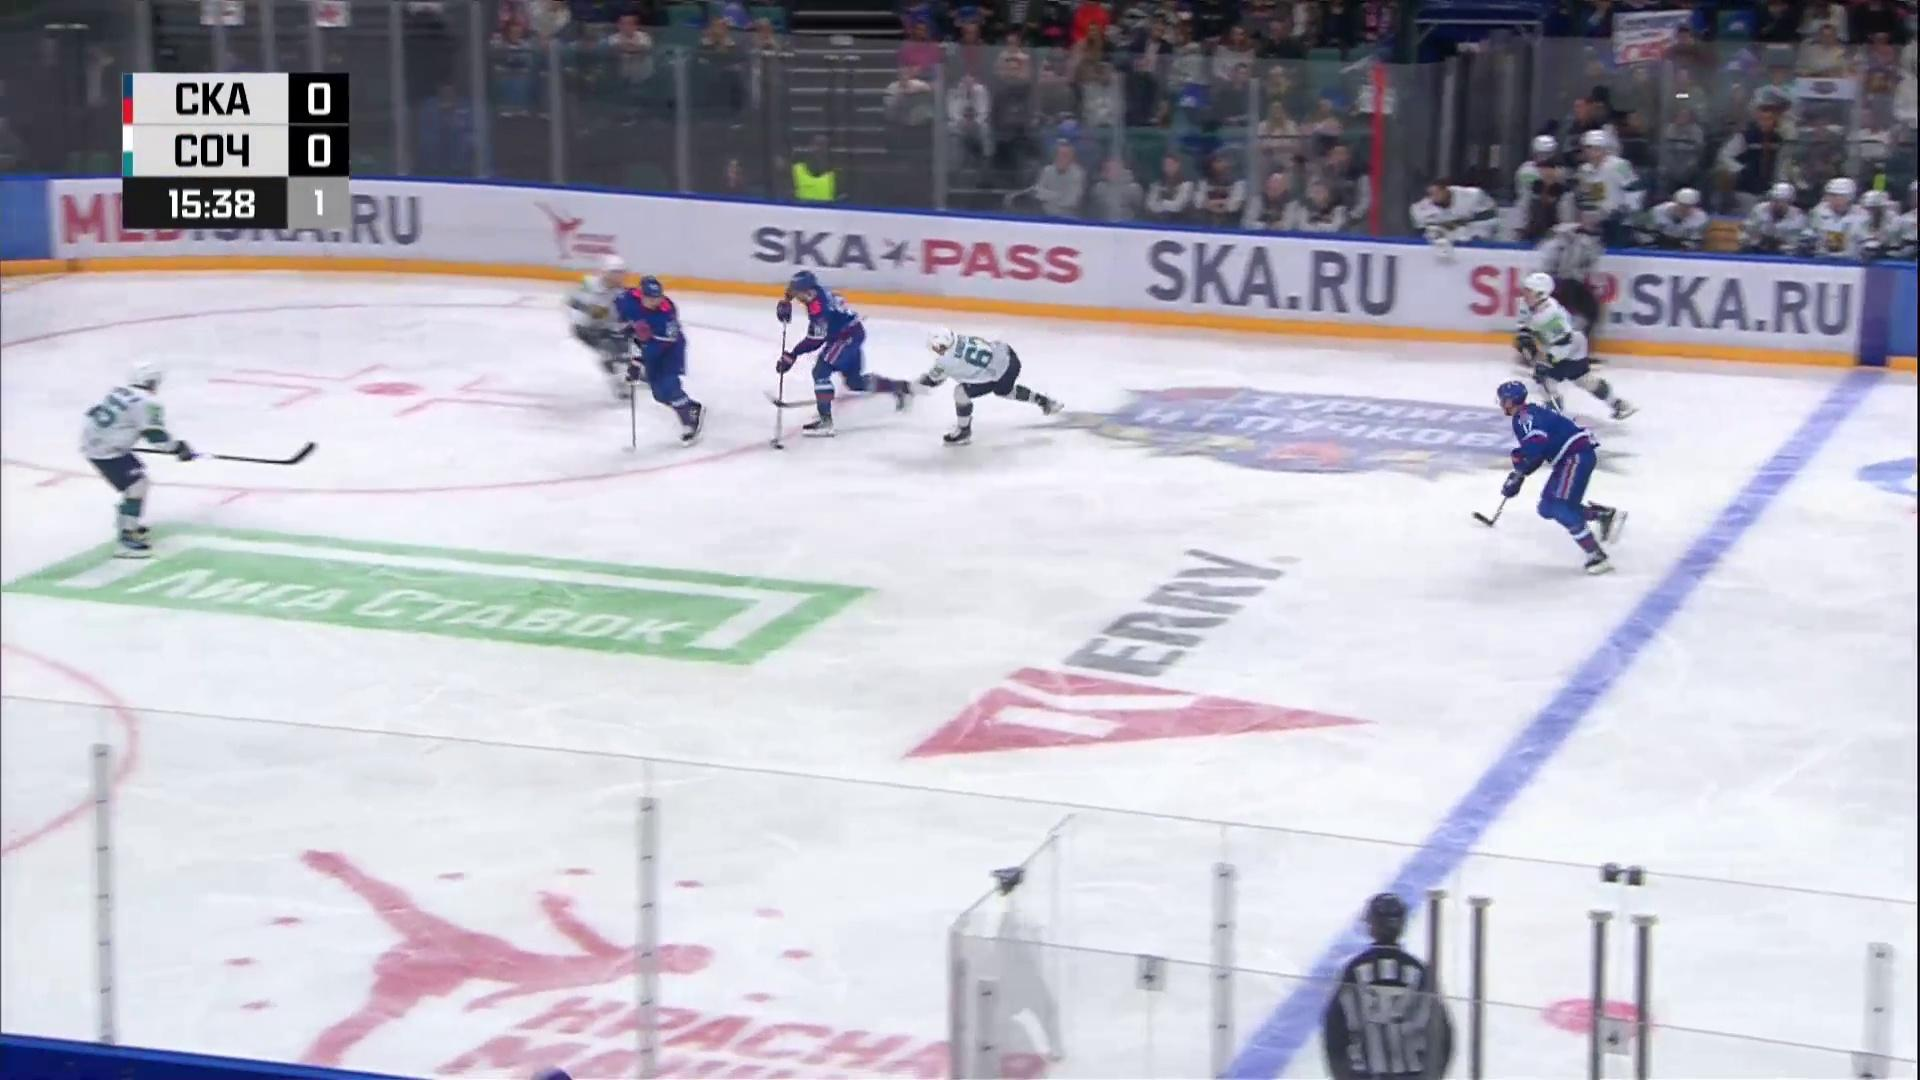ball: (774, 444, 785, 450)
